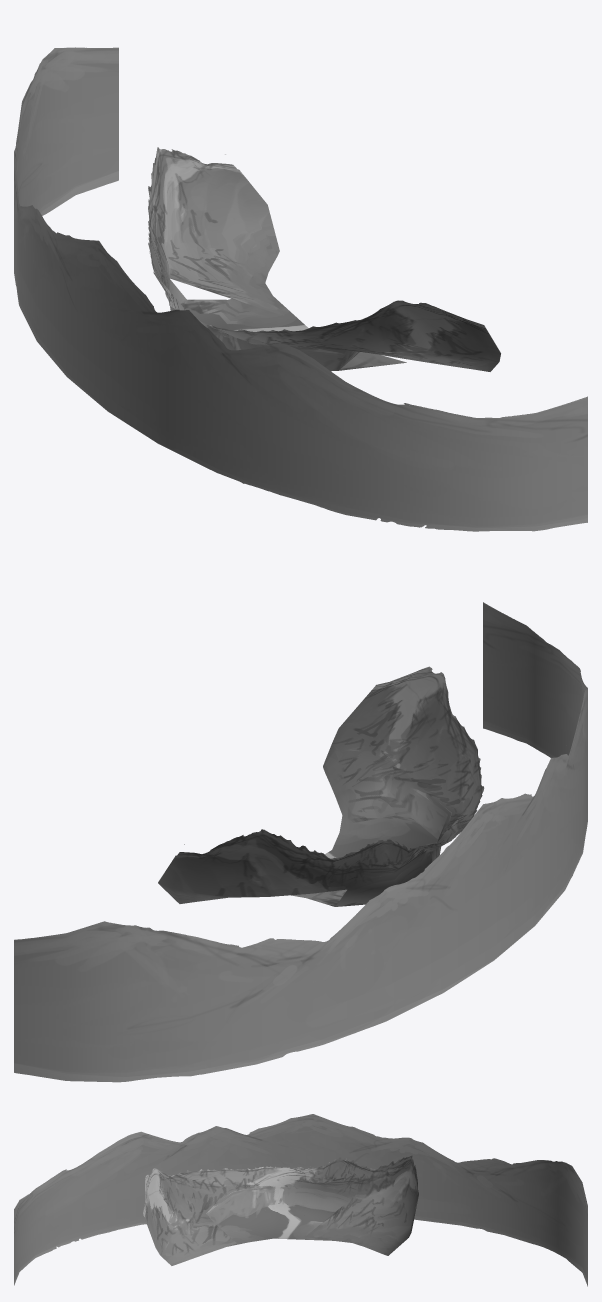
The model's file is background.fbx.
3 views of the same model, one above another, from view 1: azimuth 30°, elevation 25°; view 2: azimuth 150°, elevation 25°; view 3: azimuth 270°, elevation 25° (orthographic). The views are drawn at different scales.
Parts seen in each view (by area): view 1: sm_background01.001; view 2: sm_background01.001; view 3: sm_background01.001.
Part boxes in pixels (x1,y1,x2,y2): sm_background01.001: (14,47,587,531); sm_background01.001: (14,602,587,1082); sm_background01.001: (14,1114,587,1286).
Size of the model in its own units: 40132 by 23289 by 117717.
